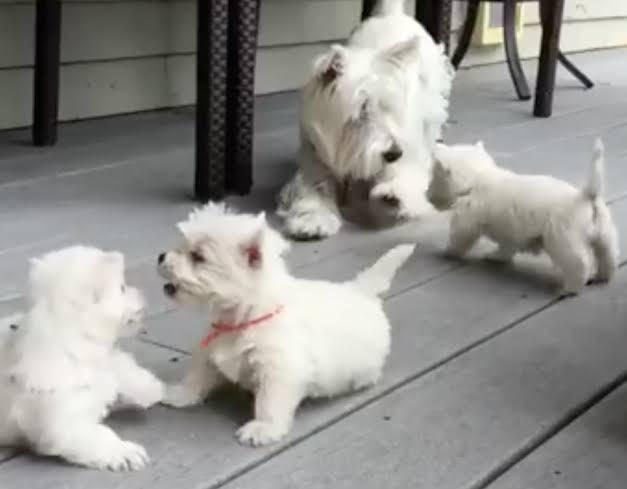adult_dog: (269, 3, 457, 242)
puppy-dog: (156, 202, 417, 454), (0, 242, 169, 474), (424, 136, 620, 297)
